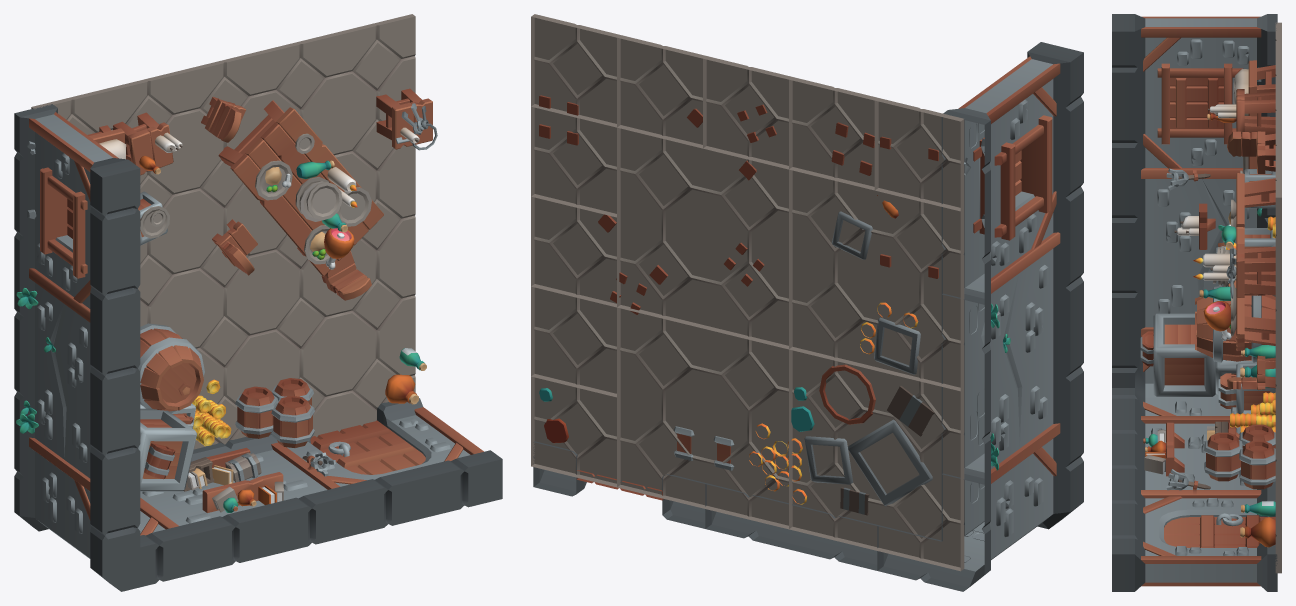
The model's file is dungeon_scene.glb.
The picture shows the model from 3 angles, left to right: view 1: azimuth 30°, elevation 25°; view 2: azimuth 150°, elevation 25°; view 3: azimuth 270°, elevation 25°; orthographic projection. The views are drawn at different scales.
Visible parts, largest first — view 1: wall_window_closed_scaffold, wall_cracked, wall_shelves, floor_tile_large.002, wall_corner_scaffold, wall_doorway_scaffold, table_long_decorated_A, floor_tile_large, box_stacked, floor_tile_small, floor_tile_large.001, floor_tile_small.001 (+16 smaller); view 2: floor_tile_large, floor_tile_large.002, floor_tile_large.001, floor_tile_large.003, wall_window_closed_scaffold, wall_cracked, wall_corner_scaffold, floor_tile_small, floor_tile_small.007, floor_tile_small.004, floor_tile_small.001, floor_tile_small.005 (+12 smaller); view 3: wall_window_closed_scaffold, wall_cracked, wall_doorway_scaffold, box_stacked, wall_shelves, wall_corner_scaffold, table_long_decorated_A, barrel_small_stack, bed_decorated, wall_doorway_scaffold_door, table_small_decorated_A, chair.002 (+19 smaller).
Part boxes in pixels (x1=…): wall_window_closed_scaffold: x1=14, y1=104, x2=140, y2=337; wall_cracked: x1=14, y1=273, x2=140, y2=496; wall_shelves: x1=140, y1=436, x2=350, y2=573; floor_tile_large.002: x1=187, y1=278, x2=339, y2=449; wall_corner_scaffold: x1=14, y1=432, x2=197, y2=591; wall_doorway_scaffold: x1=268, y1=398, x2=502, y2=535; table_long_decorated_A: x1=218, y1=100, x2=383, y2=276; floor_tile_large: x1=186, y1=115, x2=339, y2=311; box_stacked: x1=138, y1=323, x2=204, y2=491; floor_tile_small: x1=336, y1=14, x2=415, y2=114; floor_tile_large.001: x1=138, y1=152, x2=186, y2=322; floor_tile_small.001: x1=260, y1=32, x2=339, y2=122; floor_tile_large: x1=617, y1=125, x2=792, y2=349; floor_tile_large.002: x1=617, y1=305, x2=792, y2=529; floor_tile_large.001: x1=789, y1=167, x2=964, y2=391; floor_tile_large.003: x1=789, y1=349, x2=964, y2=571; wall_window_closed_scaffold: x1=941, y1=42, x2=1083, y2=304; wall_cracked: x1=941, y1=232, x2=1083, y2=484; wall_corner_scaffold: x1=877, y1=412, x2=1083, y2=591; floor_tile_small: x1=531, y1=14, x2=620, y2=127; floor_tile_small.007: x1=531, y1=284, x2=620, y2=397; floor_tile_small.004: x1=874, y1=98, x2=964, y2=210; floor_tile_small.001: x1=617, y1=35, x2=706, y2=148; floor_tile_small.005: x1=531, y1=104, x2=620, y2=217; wall_window_closed_scaffold: x1=1112, y1=14, x2=1277, y2=181; wall_cracked: x1=1112, y1=179, x2=1275, y2=331; wall_doorway_scaffold: x1=1112, y1=484, x2=1277, y2=591; box_stacked: x1=1140, y1=285, x2=1275, y2=414; wall_shelves: x1=1112, y1=414, x2=1275, y2=489; wall_corner_scaffold: x1=1112, y1=327, x2=1236, y2=423; table_long_decorated_A: x1=1199, y1=173, x2=1275, y2=351; barrel_small_stack: x1=1204, y1=424, x2=1275, y2=489; bed_decorated: x1=1207, y1=60, x2=1275, y2=208; wall_doorway_scaffold_door: x1=1164, y1=513, x2=1275, y2=547; table_small_decorated_A: x1=1210, y1=244, x2=1275, y2=298; chair.002: x1=1227, y1=131, x2=1275, y2=173.
Bounding box in the file's own units: 10.63 × 10.5 × 4.1.
1 material, 1 textured.
